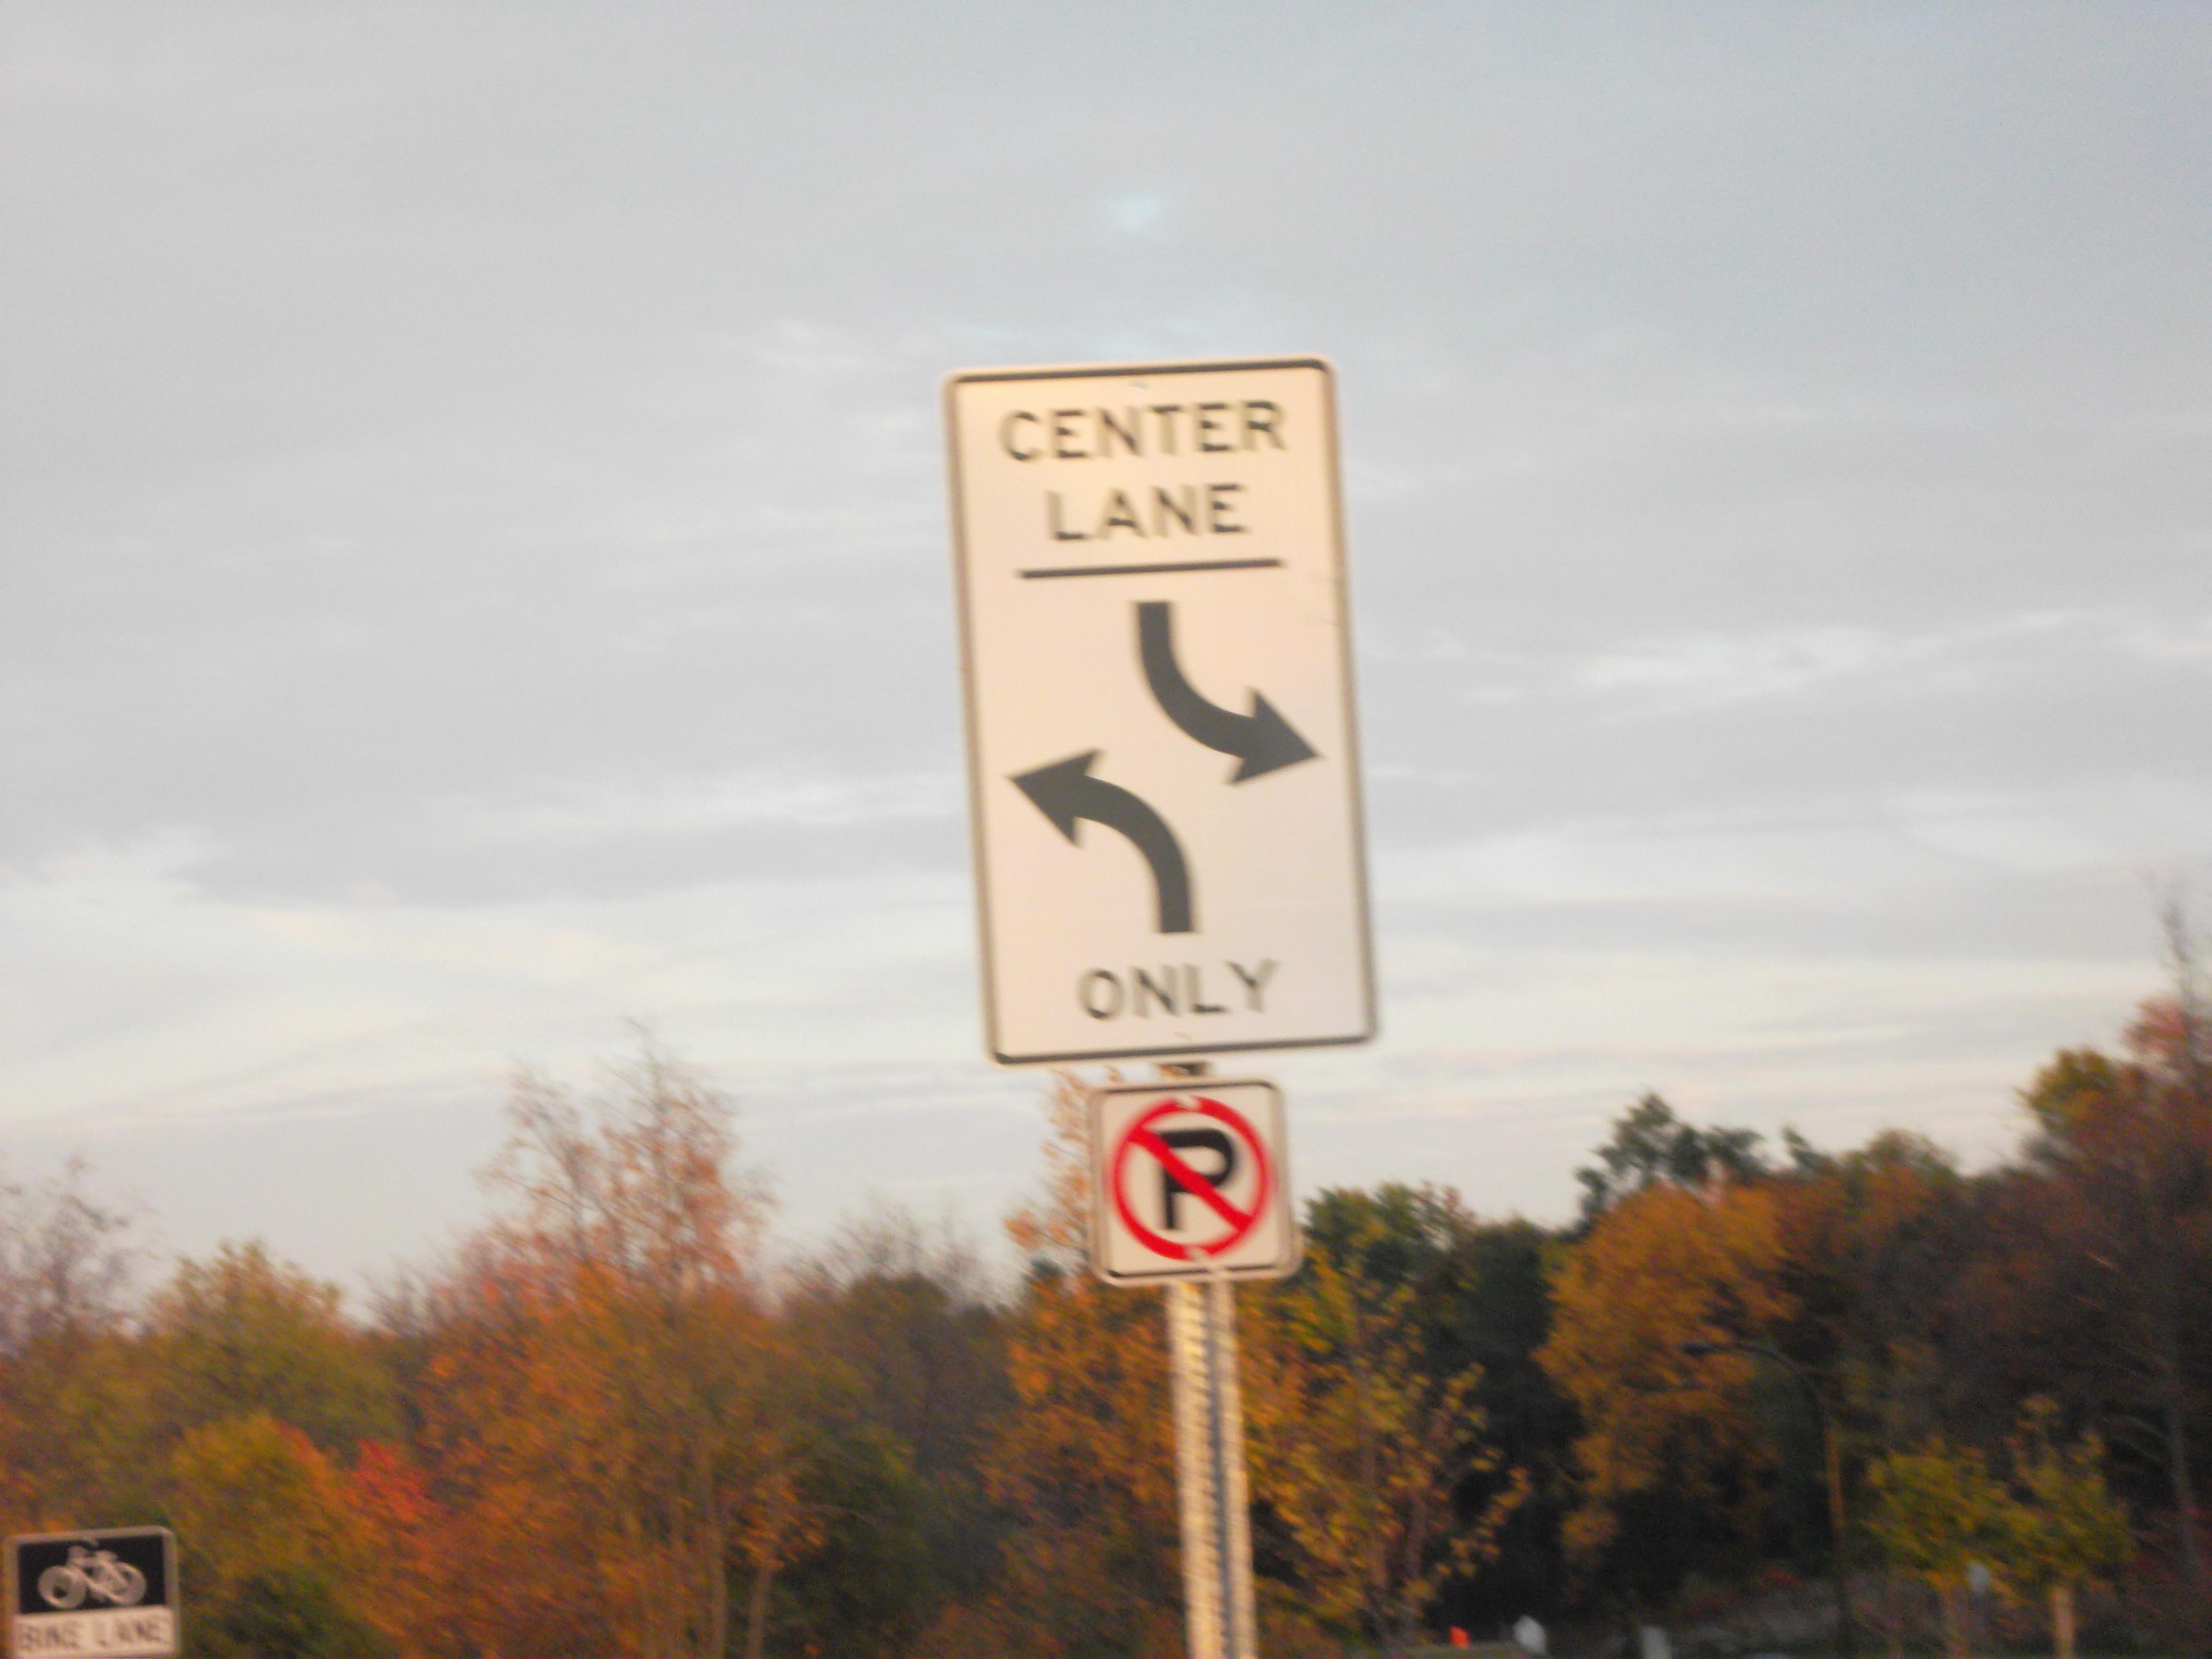regulatory: (909, 331, 1395, 1077)
